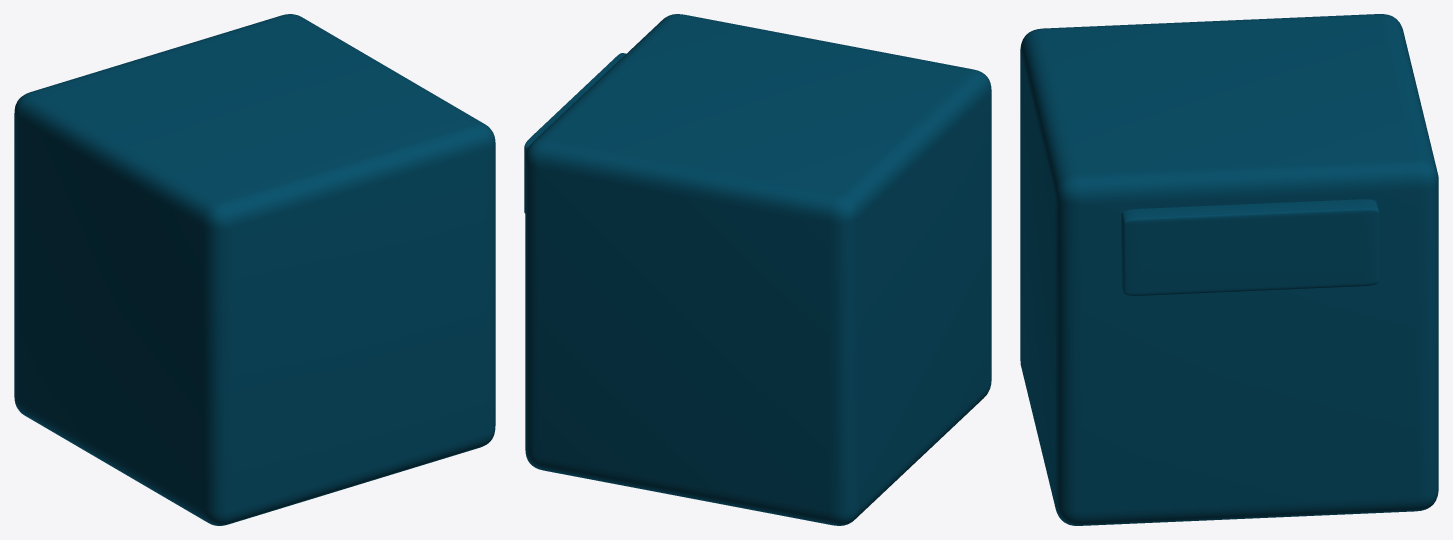
Rendered from border cube beat saber.fbx.
The picture shows the model from 3 angles, left to right: view 1: azimuth 30°, elevation 25°; view 2: azimuth 150°, elevation 25°; view 3: azimuth 270°, elevation 25°; orthographic projection. The views are drawn at different scales.
Visible parts, largest first — view 1: Cube.001; view 2: Cube.001; view 3: Cube.001.
Part boxes in pixels (<box>): Cube.001: <box>14,14,495,525</box>; Cube.001: <box>524,14,991,525</box>; Cube.001: <box>1020,14,1438,525</box>.
Size of the model in its own units: 55.21 by 48.74 by 52.87.
